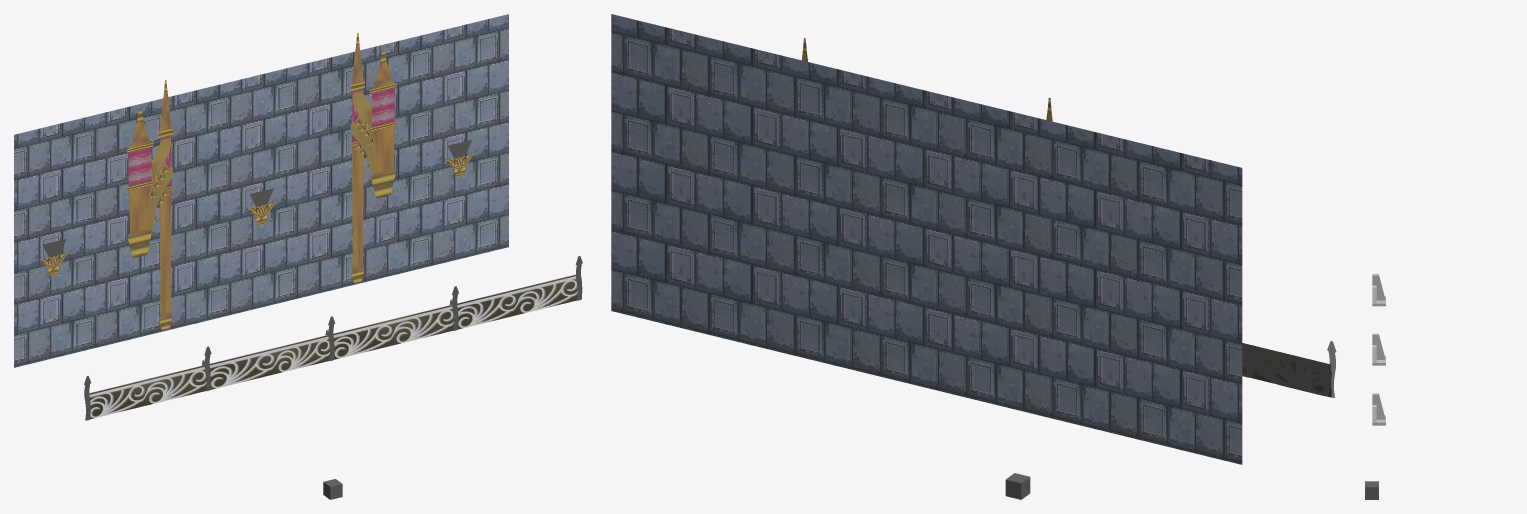
The model's file is stg_08_1_bake_split.dae.
3 views of the same model, side by side, from view 1: azimuth 30°, elevation 25°; view 2: azimuth 150°, elevation 25°; view 3: azimuth 270°, elevation 25° (orthographic). The views are drawn at different scales.
Visible parts, largest first — view 1: polySurface255_q00026, pCylinder7_q00011, pCylinder7_q00011_VC, polySurface1352_q00031_part0, polySurface1352_q00027_part0, polySurface1352_q00027_part1, polySurface1352_q00031_part1, polySurface1352_q00027_part2, polySurface1352_q00031_part2; view 2: polySurface255_q00026, polySurface1365_q00012; view 3: pCube25_q00000, pCube24_q00021, pCube24_q00015, pCube24_q00018.
Part boxes in pixels (x1,y1,x2,y2): polySurface255_q00026: (14, 14, 508, 367); pCylinder7_q00011: (89, 276, 577, 418); pCylinder7_q00011_VC: (89, 275, 577, 419); polySurface1352_q00031_part0: (350, 44, 395, 272); polySurface1352_q00027_part0: (128, 91, 172, 319); polySurface1352_q00027_part1: (126, 80, 172, 330); polySurface1352_q00031_part1: (351, 33, 396, 283); polySurface1352_q00027_part2: (128, 136, 171, 187); polySurface1352_q00031_part2: (352, 87, 394, 142); polySurface255_q00026: (611, 14, 1242, 464); polySurface1365_q00012: (1242, 343, 1331, 396); pCube25_q00000: (1365, 481, 1378, 499); pCube24_q00021: (1372, 274, 1385, 300); pCube24_q00015: (1372, 333, 1385, 359); pCube24_q00018: (1372, 393, 1385, 419).
Bounding box in the file's own units: 40.31 × 29.88 × 10.5.
